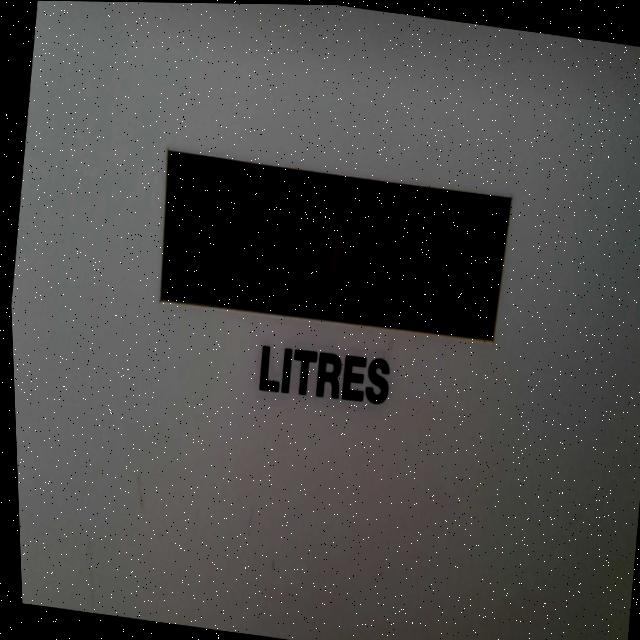.: (359, 277, 383, 306)
0: (423, 191, 494, 335), (375, 181, 440, 315)
5: (267, 173, 340, 301)
7: (318, 173, 386, 310)
